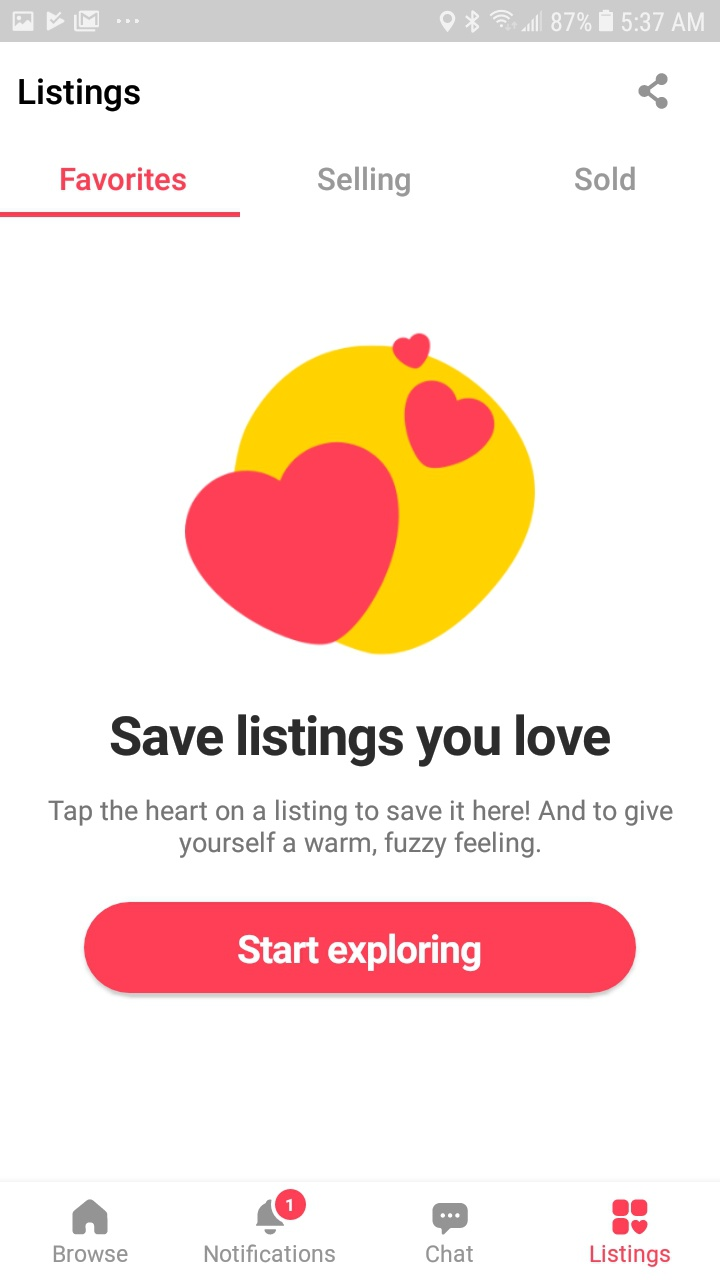Icon: (256, 1189, 307, 1235), (72, 1198, 109, 1235), (612, 1199, 648, 1236), (432, 1202, 469, 1235), (638, 73, 669, 111)
Image: (185, 333, 536, 656)
Text: (48, 799, 674, 859), (110, 714, 611, 768), (19, 78, 141, 113), (61, 167, 187, 192), (318, 166, 411, 198), (205, 1243, 336, 1263), (590, 1244, 671, 1268), (574, 166, 636, 192), (54, 1244, 129, 1263), (426, 1244, 474, 1263)
TextButton: (84, 902, 637, 994)
UpperTaskBar: (1, 1, 720, 43)
